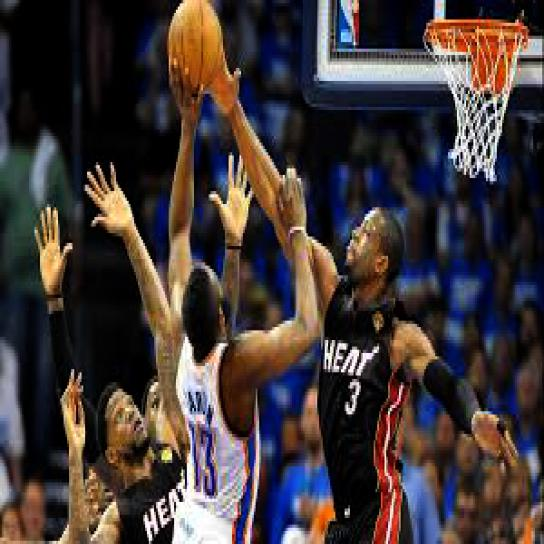basketball-hoop: (420, 16, 530, 184)
